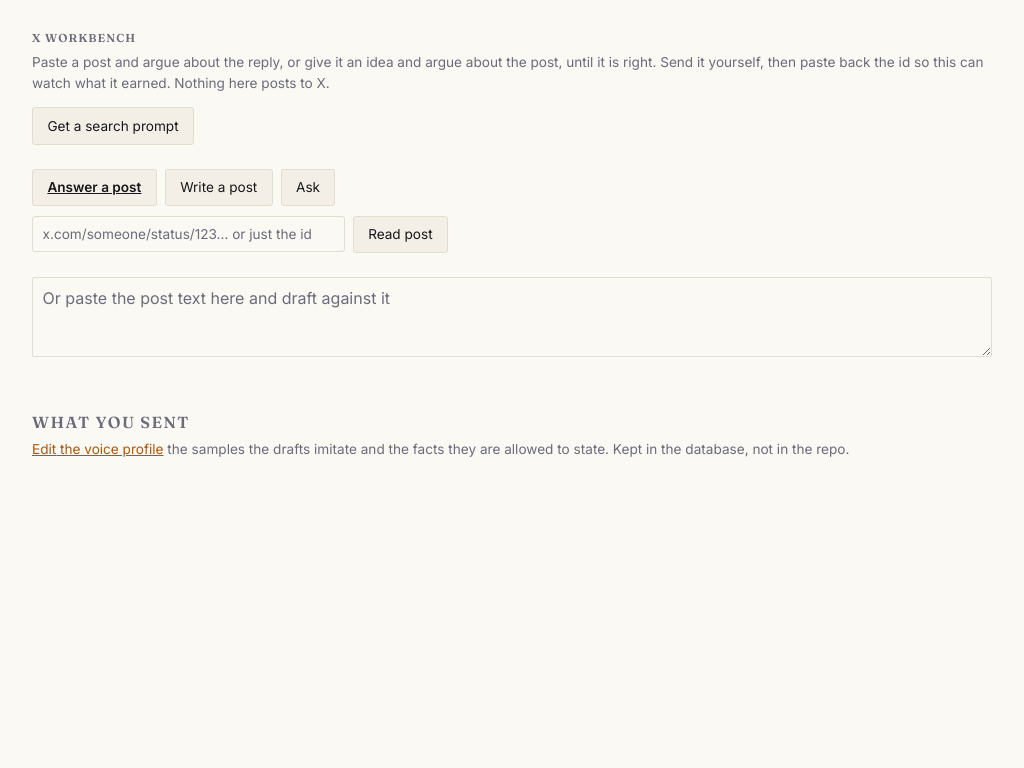
Test: the X workbench › a search suggestion can be argued with: its answer shows and the turns are sent
The width and height of the screenshot is (1024, 768).
Click the button "Get a search prompt" at (113, 126), box [32,107,194,145]
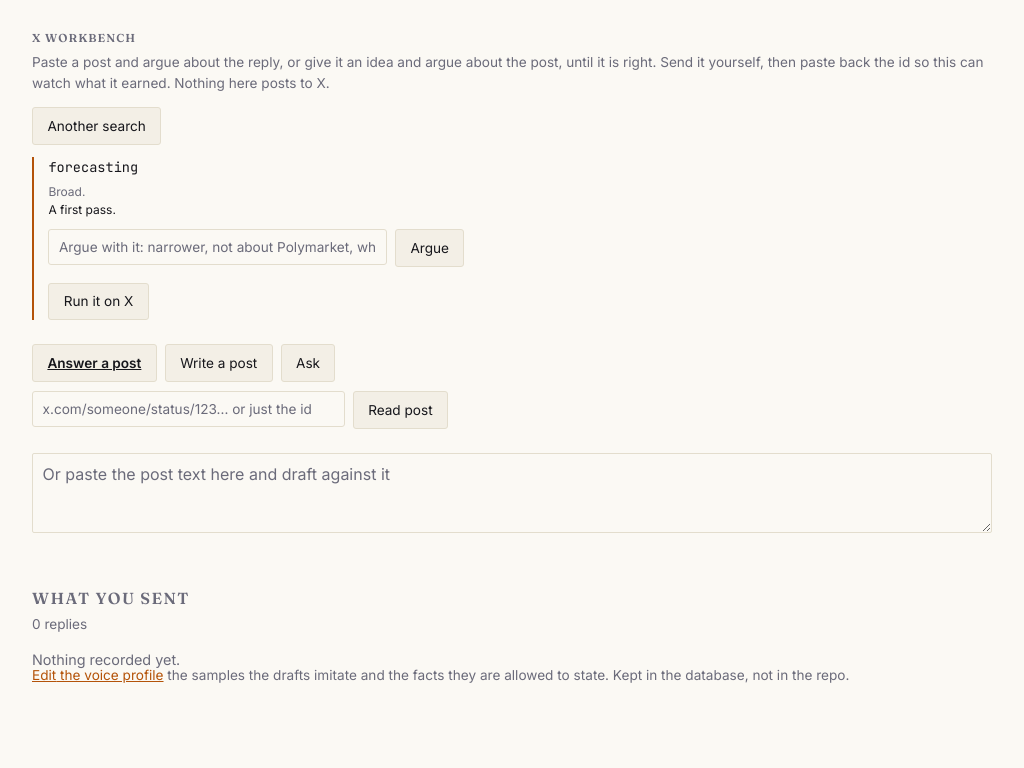
Check: the text "forecasting" is shown, box [48,158,138,176]
Check: the text "A first pass." is shown, box [48,202,116,217]
Type "narrower" into the field with placeholder "narrower" at (218, 248), box [48,230,387,266]
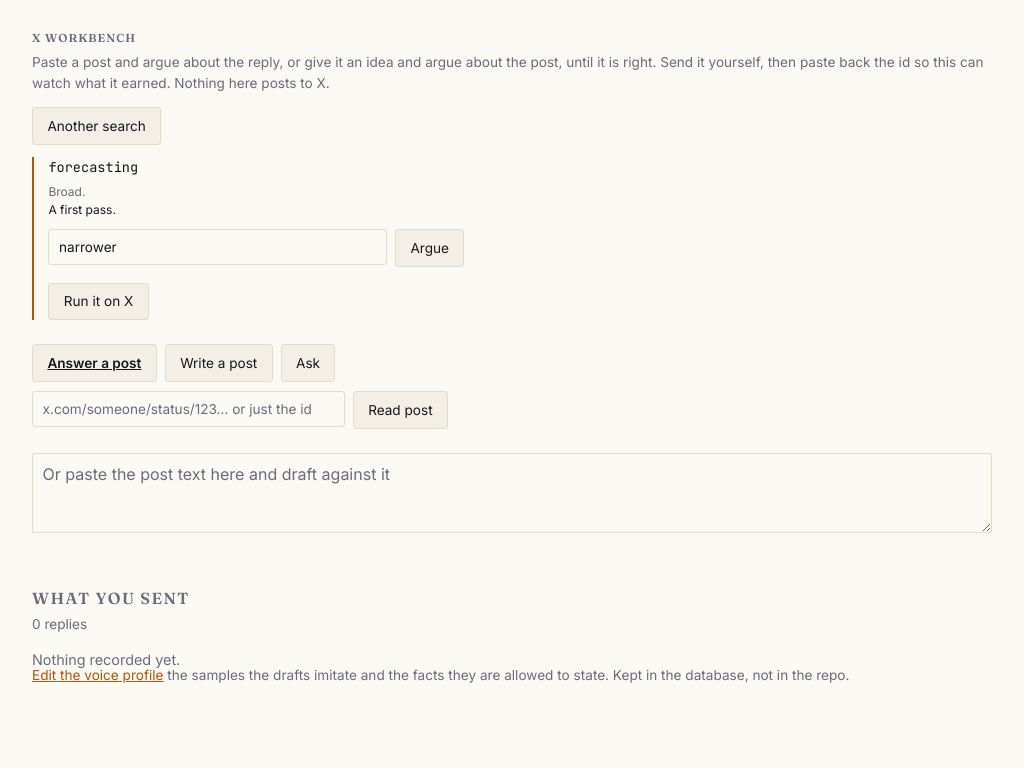
Click the button "Argue" at (430, 248), box [395,230,464,267]
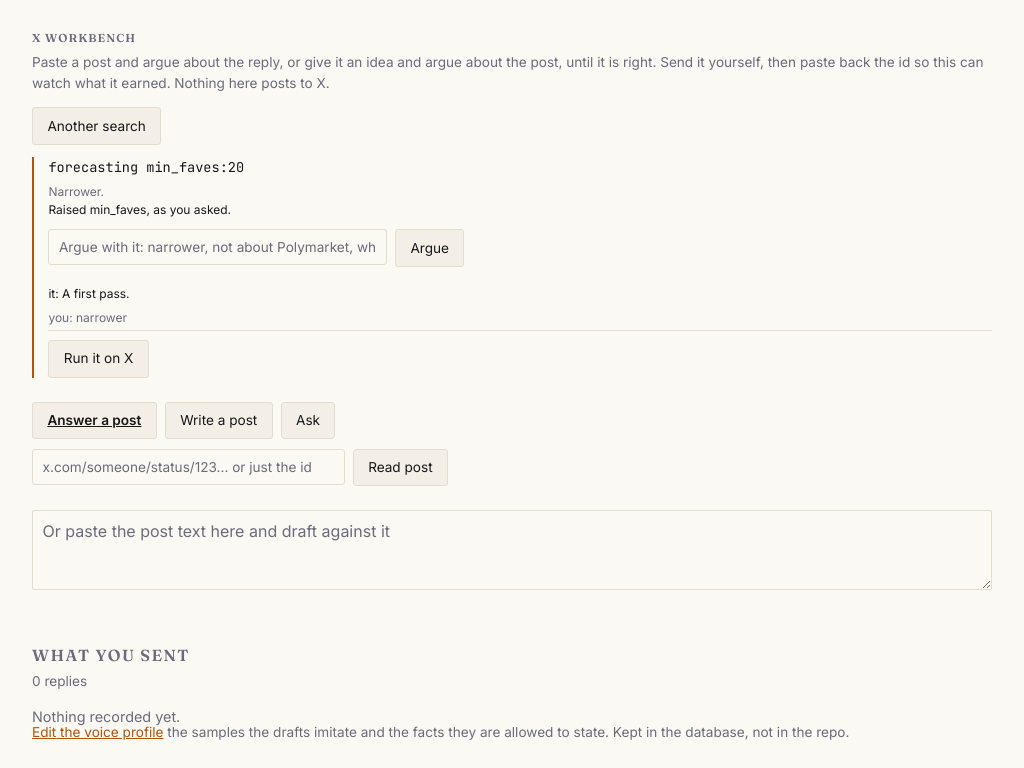
Check: the text "forecasting min_faves:20" is shown, box [48,158,244,176]
Check: the text "Raised min_faves, as you asked." is shown, box [48,202,231,217]
